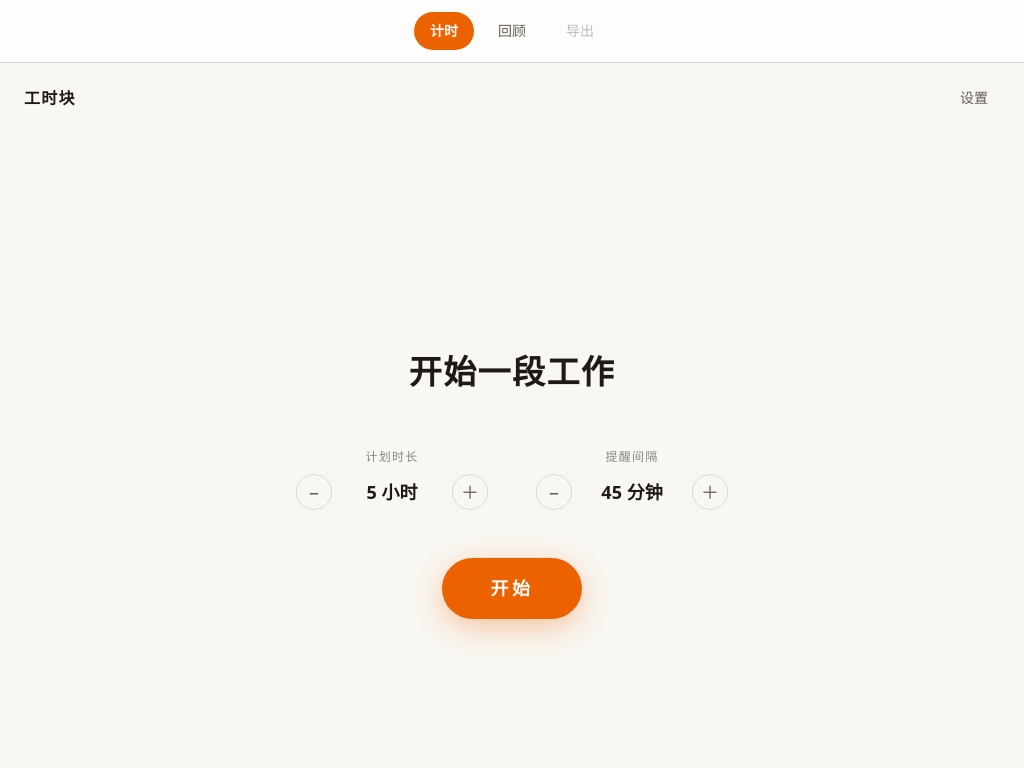
Test: 完整流程 › 暂停后继续，到点提醒不被跳过
Click the button "开始".
click(512, 589)  # box [442,558,582,619]
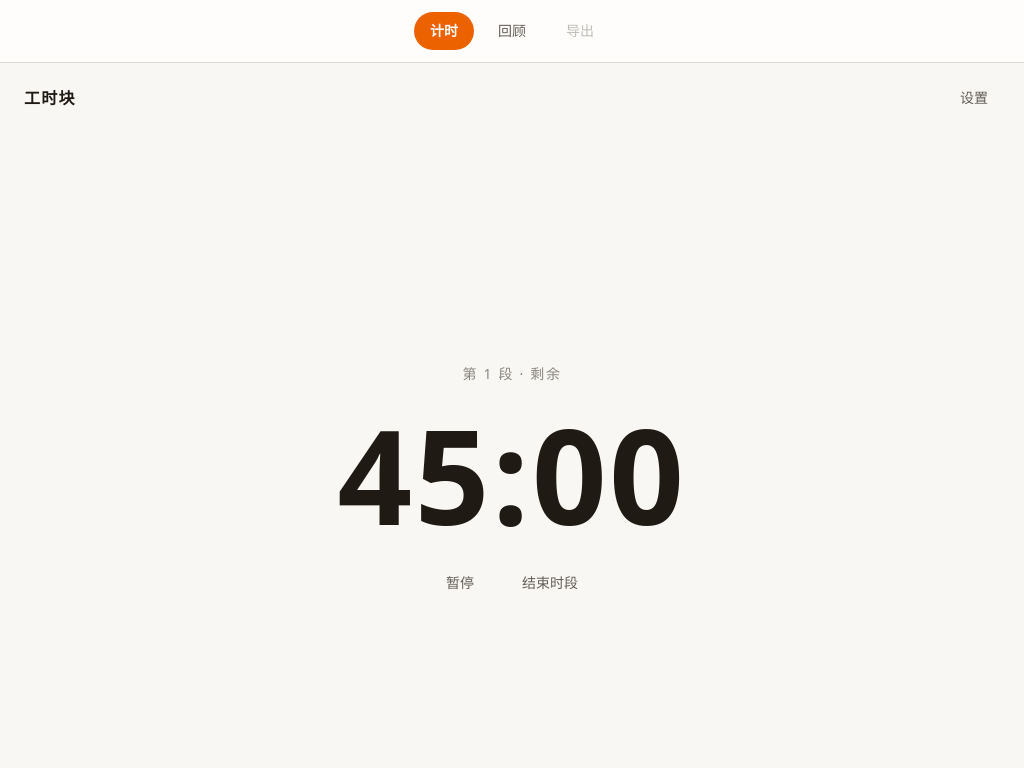
Click the button "暂停".
click(460, 583)  # box [434,564,486,602]
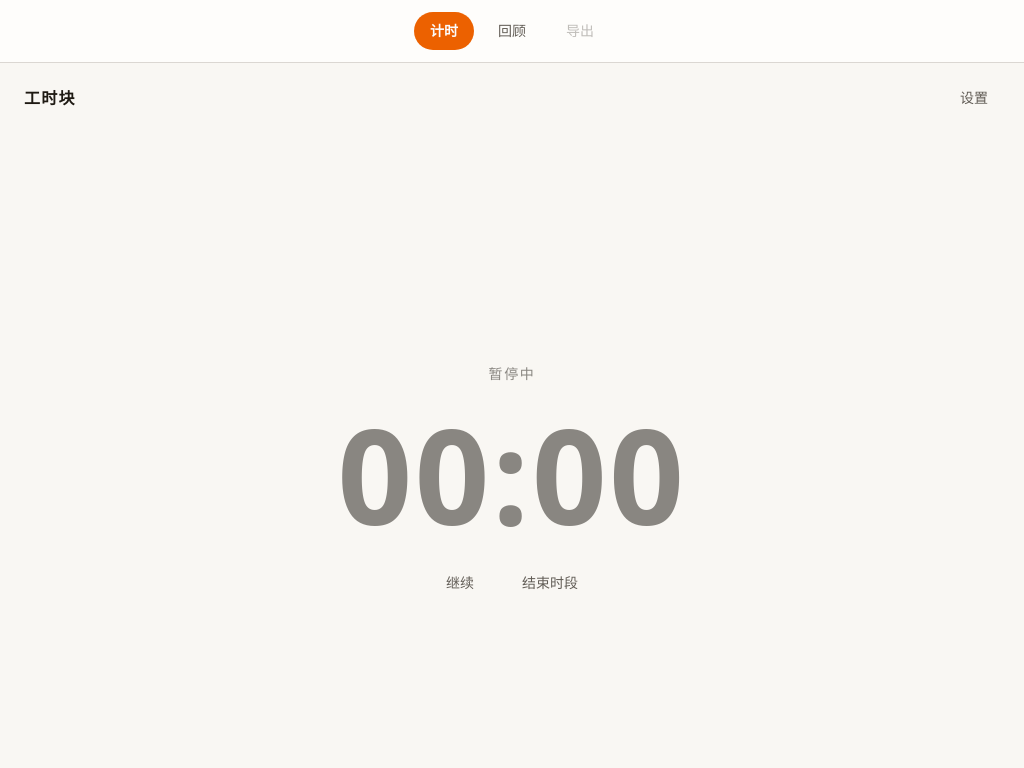
Expected: the text "暂停中" is shown, [488,363,536,385]
Click the button "继续".
click(460, 583)  # box [434,564,486,602]
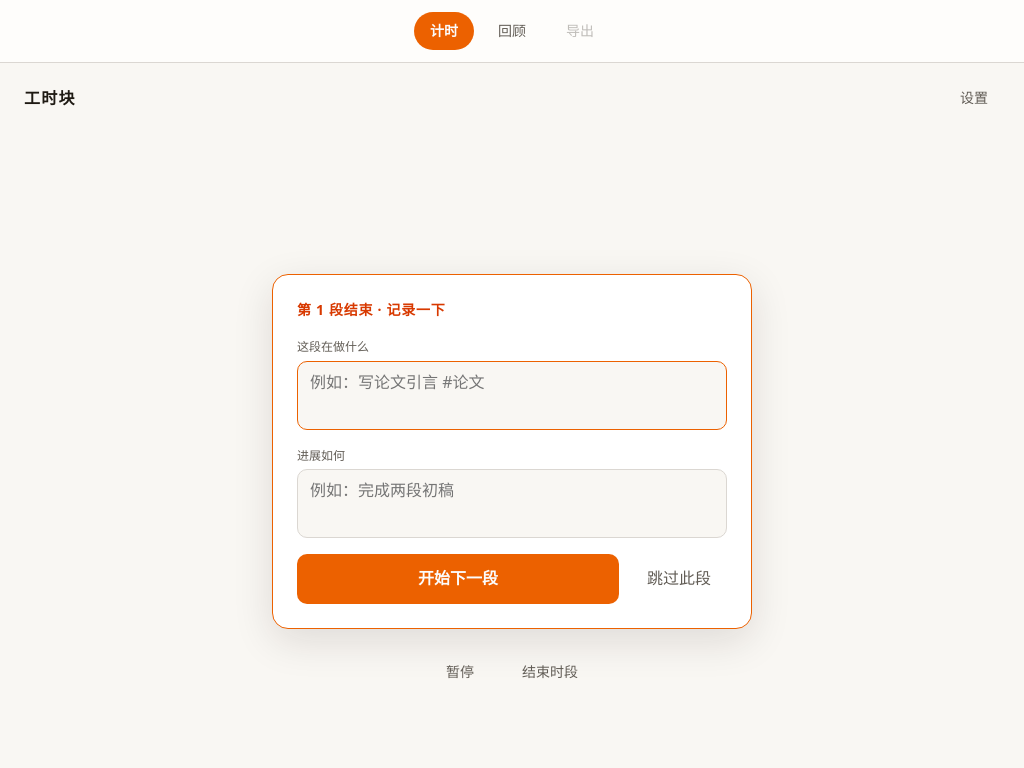
Expected: the text "第 1 段结束 · 记录一下" is shown, [297,300,445,319]
